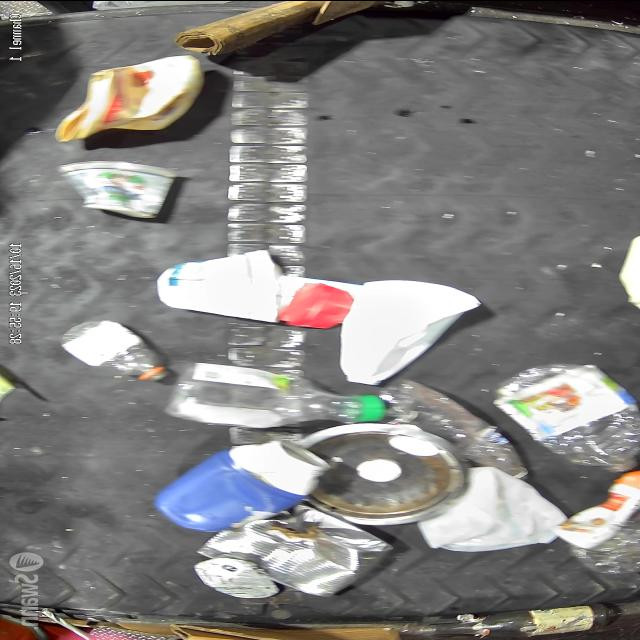can: (199, 502, 398, 597)
milk_jug: (331, 276, 488, 382), (417, 468, 568, 550)
non_white_jug: (147, 438, 329, 532), (49, 56, 214, 140)
plastic_bottle: (492, 362, 640, 468), (369, 380, 527, 470), (60, 318, 176, 384)
